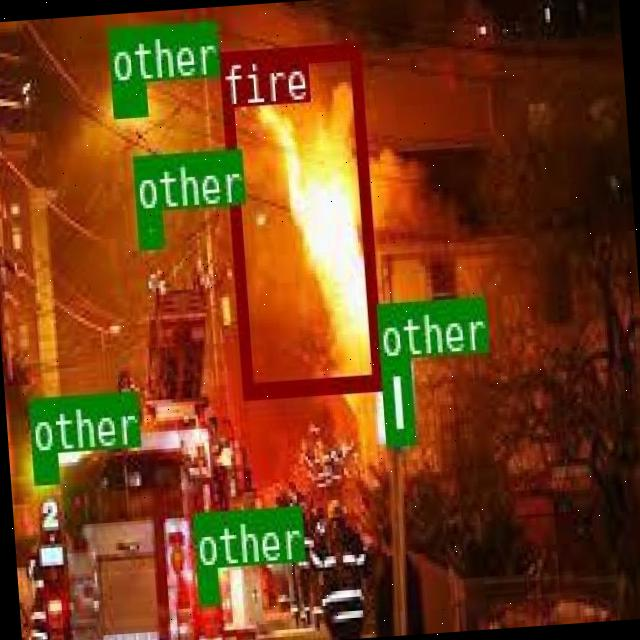fire: (217, 42, 380, 396)
